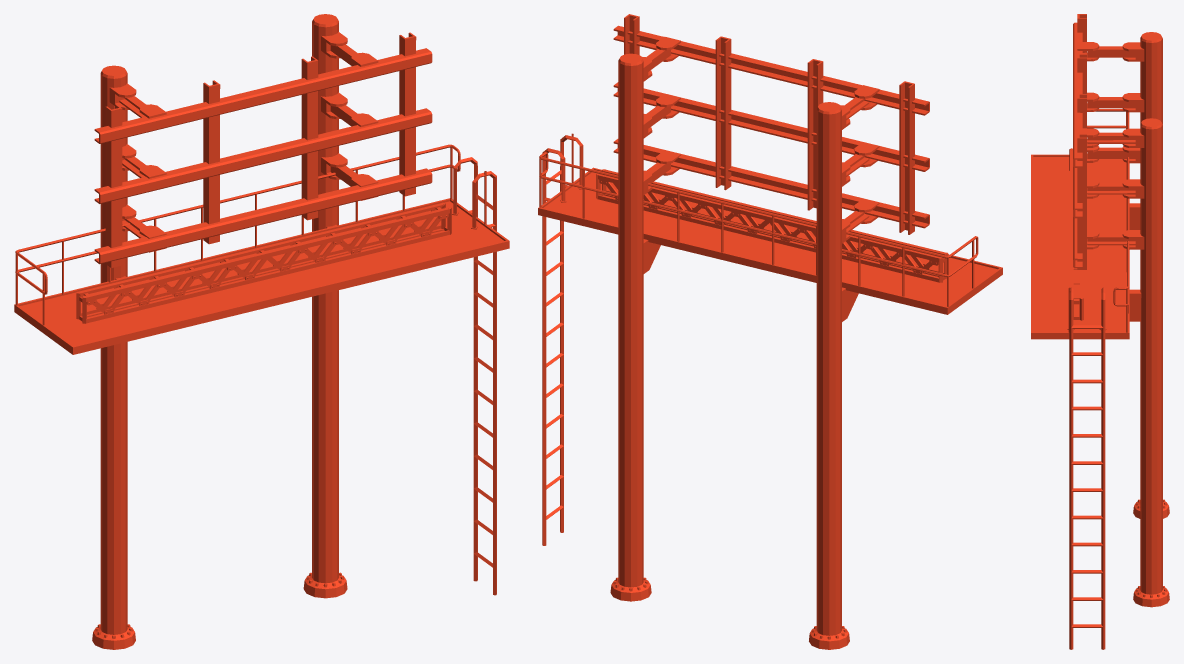
The model's file is SM_Billboard_E_Stand_City.fbx.
3 views of the same model, side by side, from view 1: azimuth 30°, elevation 25°; view 2: azimuth 150°, elevation 25°; view 3: azimuth 270°, elevation 25° (orthographic). The views are drawn at different scales.
Parts seen in each view (by area): view 1: SM_Billboard_E_Stand_City; view 2: SM_Billboard_E_Stand_City; view 3: SM_Billboard_E_Stand_City.
Boxes of the visible parts, x1,y1,x2,y2 form: SM_Billboard_E_Stand_City: (14, 14, 509, 649); SM_Billboard_E_Stand_City: (538, 14, 1002, 649); SM_Billboard_E_Stand_City: (1031, 14, 1169, 649).
Size of the model in its own units: 6.23 by 7.61 by 1.99.
